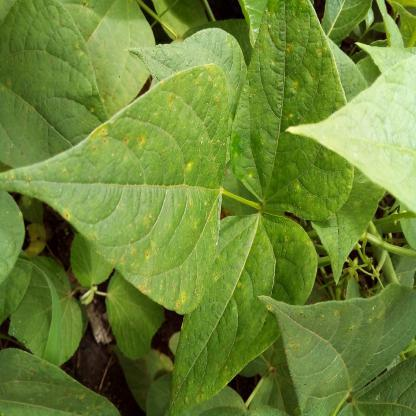Beans_Rust: (0, 62, 230, 308), (168, 210, 322, 413), (230, 0, 355, 222), (259, 284, 416, 416)
